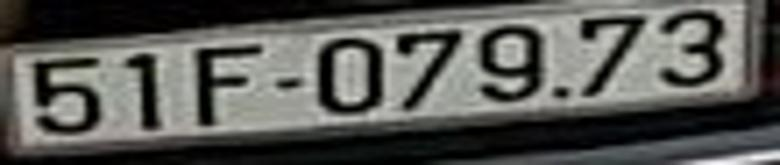-: (275, 77, 301, 88)
.: (553, 86, 567, 98)
0: (316, 38, 382, 115)
1: (129, 52, 163, 126)
3: (662, 9, 726, 87)
5: (32, 59, 104, 132)
7: (581, 16, 646, 99), (398, 34, 459, 108)
9: (483, 27, 541, 101)
F: (192, 49, 262, 126)
